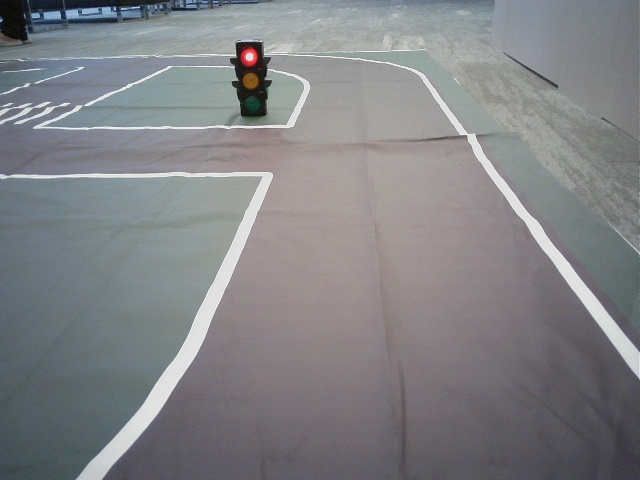red: (239, 45, 264, 114)
